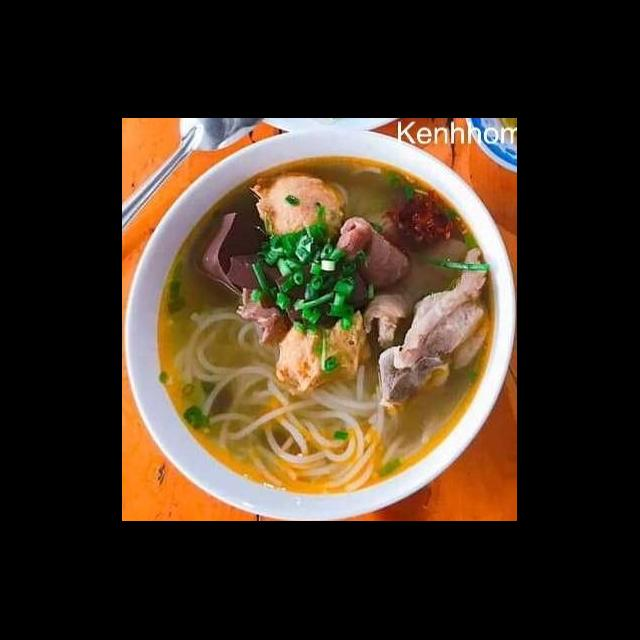bun: (168, 304, 406, 498)
bun bo: (153, 159, 500, 494)
thit bo: (358, 234, 474, 354), (329, 215, 416, 292), (232, 282, 298, 350)
